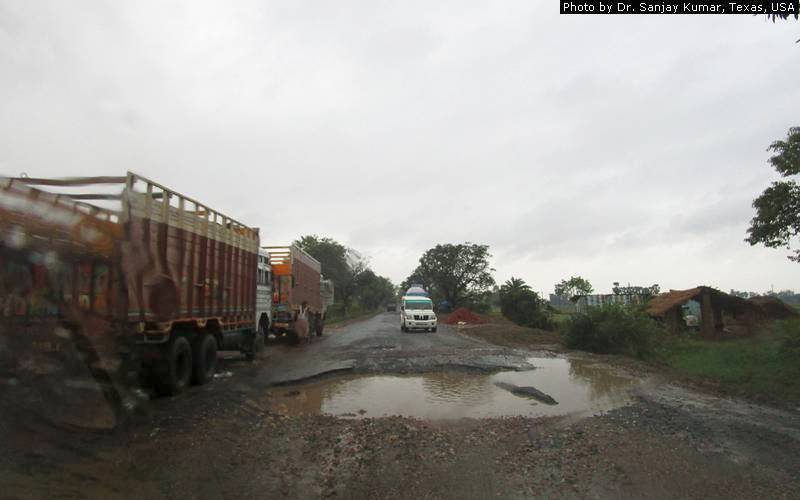pothole: (249, 364, 643, 435)
